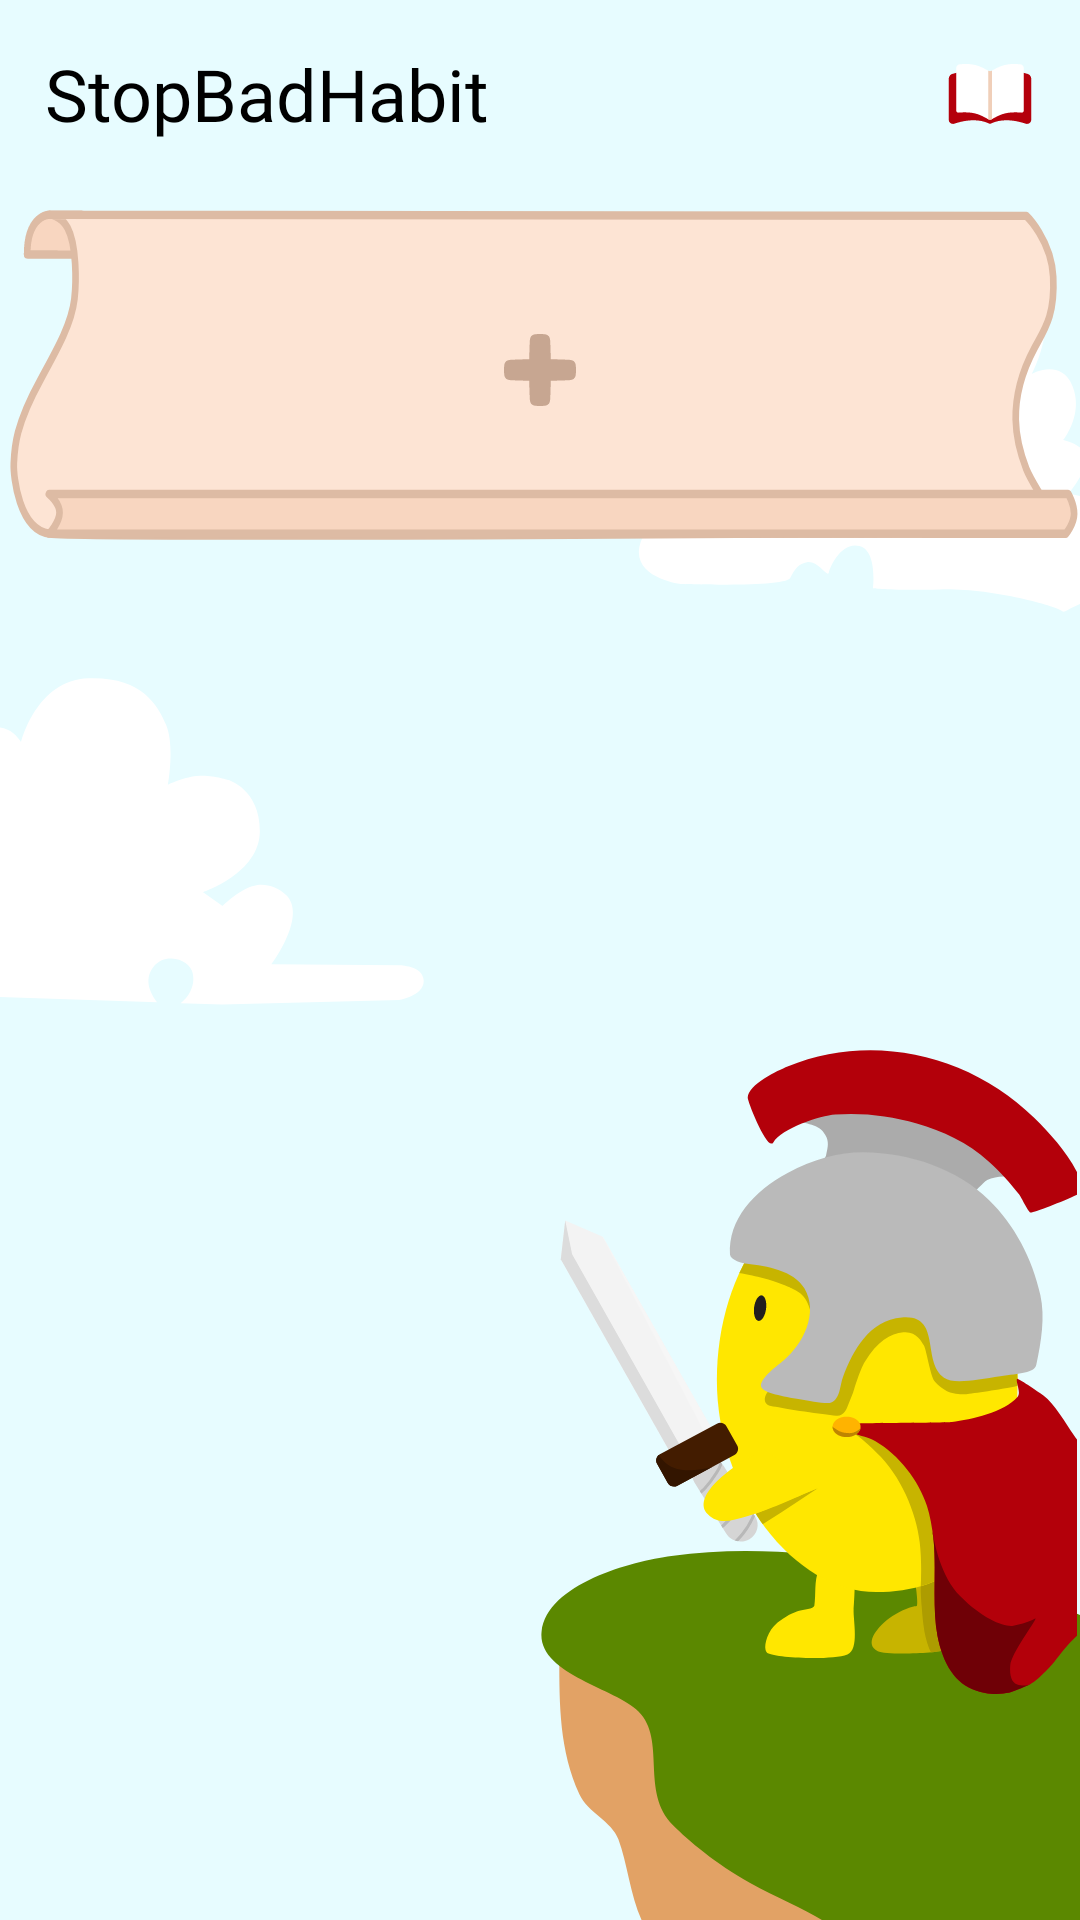

Icon click points for this 1080px×1920px phone screenshot, format (x=x, y=y):
add: (x=540, y=370)
